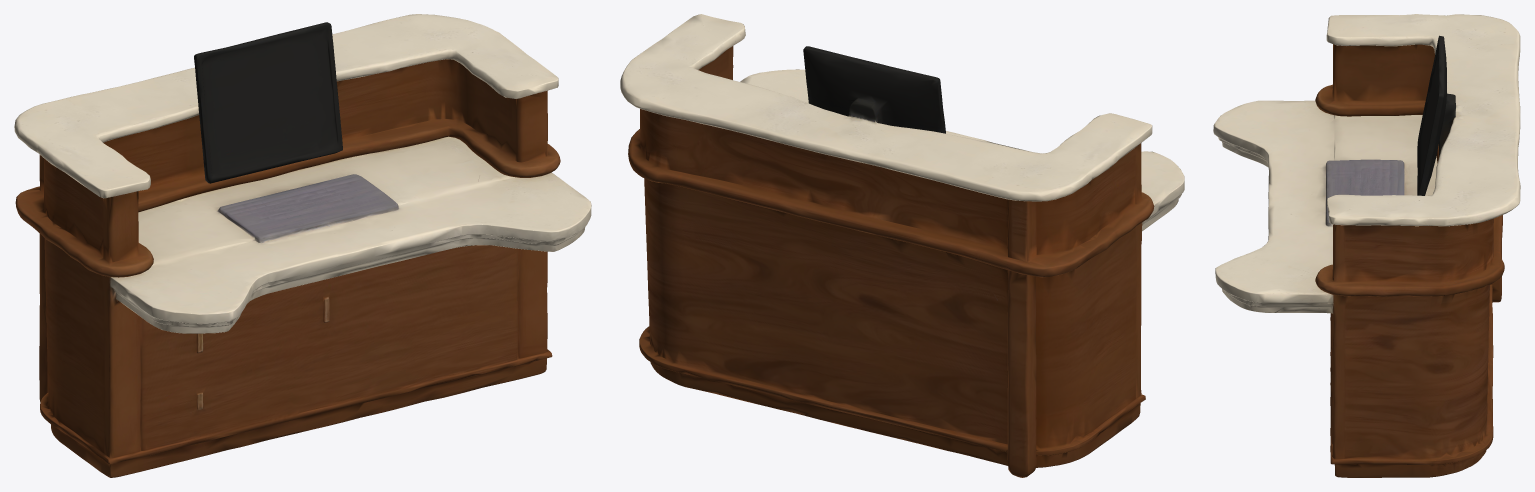
Rendered from reception-desk.glb.
The picture shows the model from 3 angles, left to right: view 1: azimuth 30°, elevation 25°; view 2: azimuth 150°, elevation 25°; view 3: azimuth 270°, elevation 25°; orthographic projection. The views are drawn at different scales.
Parts seen in each view (by area): view 1: tripo_node_01a217e8-a3b8-7292-8b3d-d2ea48ead7f1; view 2: tripo_node_01a217e8-a3b8-7292-8b3d-d2ea48ead7f1; view 3: tripo_node_01a217e8-a3b8-7292-8b3d-d2ea48ead7f1.
Boxes of the visible parts, box(x1,y1,x2,y2) form: tripo_node_01a217e8-a3b8-7292-8b3d-d2ea48ead7f1: box(14, 14, 591, 477); tripo_node_01a217e8-a3b8-7292-8b3d-d2ea48ead7f1: box(620, 14, 1184, 477); tripo_node_01a217e8-a3b8-7292-8b3d-d2ea48ead7f1: box(1213, 14, 1520, 477).
Bounding box in the file's own units: 1 × 0.7086 × 0.6254.
Materials: 1 (1 with a texture image).
